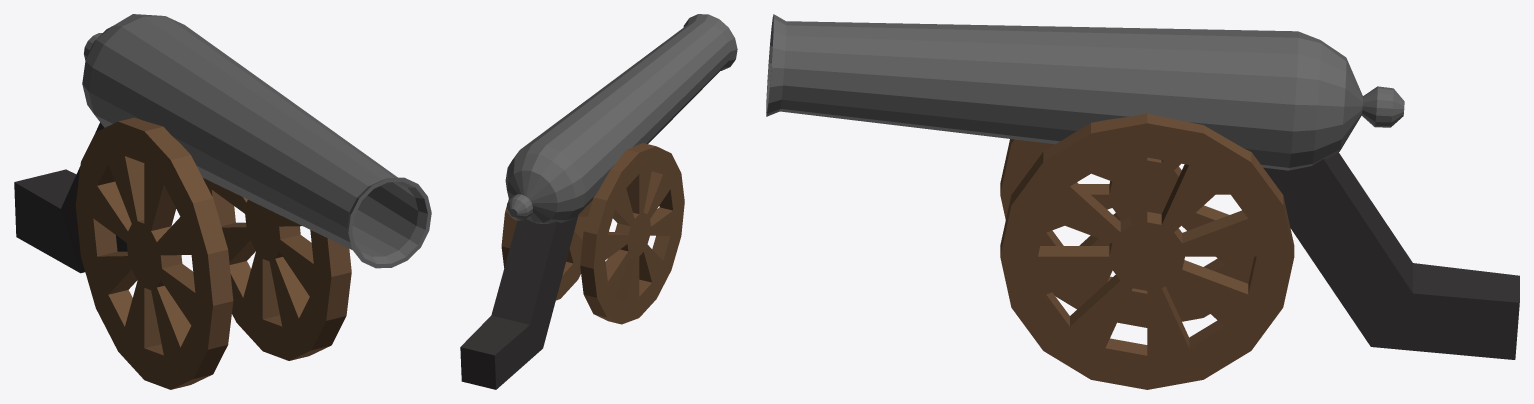
Rendered from cannon_full.fbx.
The picture shows the model from 3 angles, left to right: view 1: azimuth 30°, elevation 25°; view 2: azimuth 150°, elevation 25°; view 3: azimuth 270°, elevation 25°; orthographic projection. The views are drawn at different scales.
Parts seen in each view (by area): view 1: cannon_parts_1; view 2: cannon_parts_1; view 3: cannon_parts_1.
Boxes of the visible parts, x1,y1,x2,y2 form: cannon_parts_1: (14, 14, 431, 389); cannon_parts_1: (460, 14, 737, 389); cannon_parts_1: (766, 14, 1519, 389).
Bounding box in the file's own units: 228 × 490 × 999.
